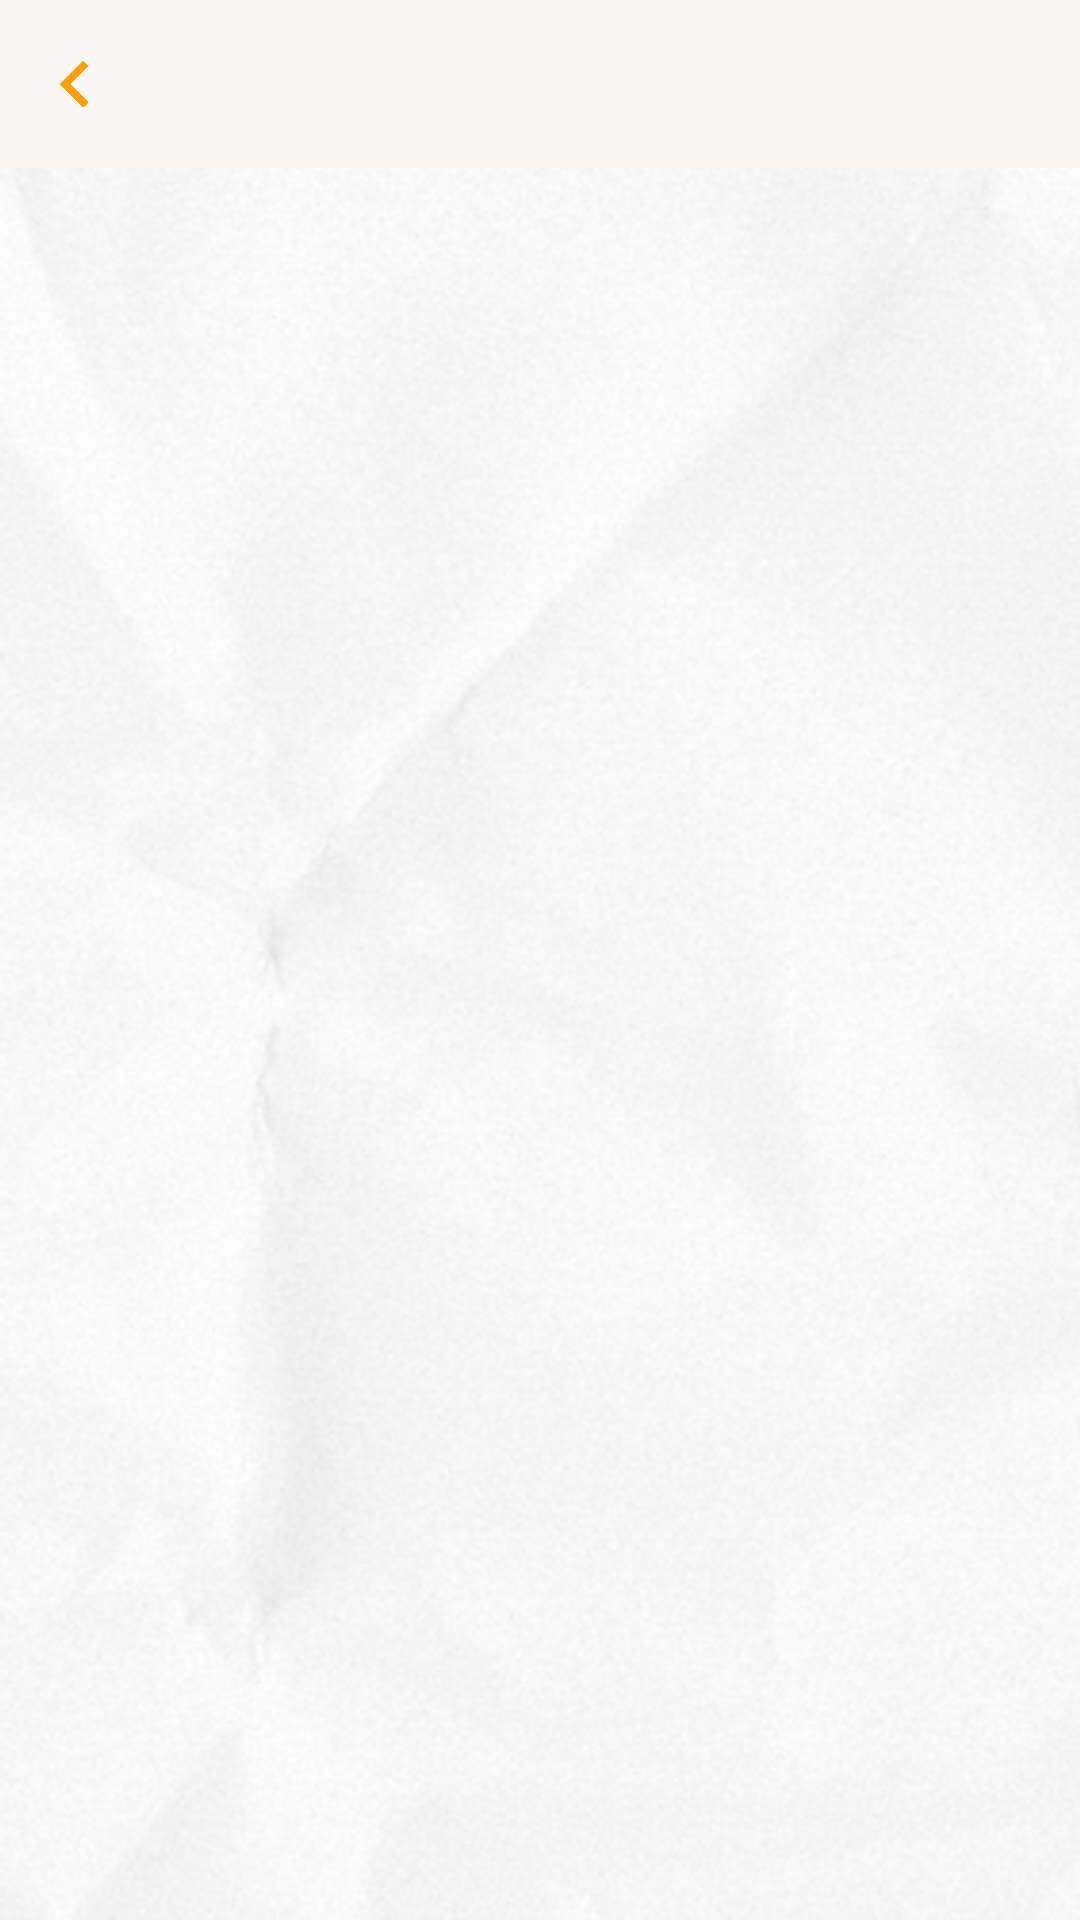

Icon click points for this 1080px×1920px phone screenshot, format point (x, y):
back: point (74, 84)
